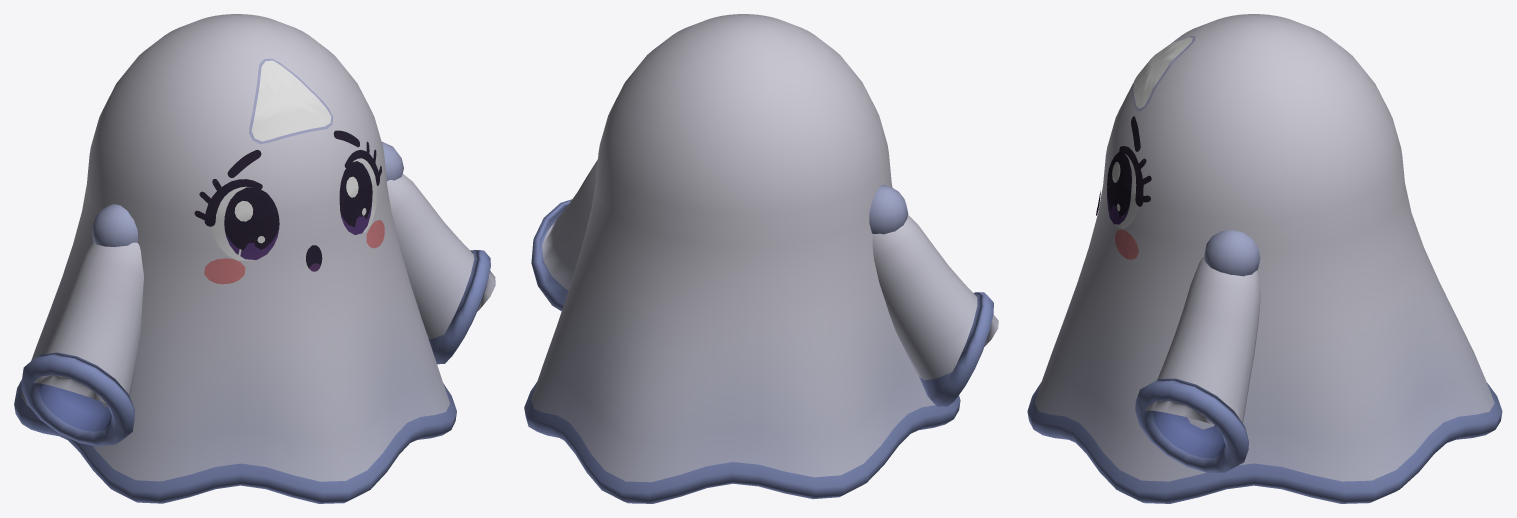
Rendered from yurei.glb.
3 views of the same model, side by side, from view 1: azimuth 30°, elevation 25°; view 2: azimuth 150°, elevation 25°; view 3: azimuth 270°, elevation 25° (orthographic). The views are drawn at different scales.
Visible parts, largest first — view 1: body, armR, armL; view 2: body, armR, armL; view 3: body, armL.
Part boxes in pixels (x1=…): body: x1=14, y1=14, x2=456, y2=503; armR: x1=21, y1=204, x2=143, y2=446; armL: x1=381, y1=141, x2=495, y2=364; body: x1=524, y1=14, x2=960, y2=503; armR: x1=869, y1=185, x2=998, y2=406; armL: x1=531, y1=159, x2=597, y2=310; body: x1=1027, y1=14, x2=1502, y2=503; armL: x1=1135, y1=230, x2=1260, y2=472.
Bounding box in the file's own units: 0.9985 × 0.895 × 0.8956.
